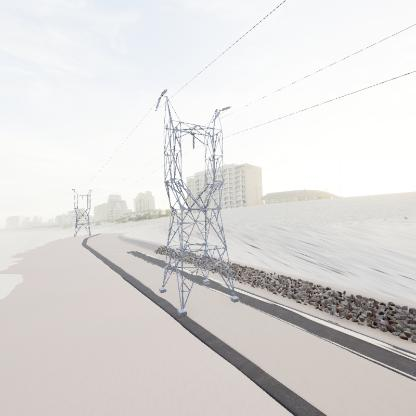tower: (151, 89, 244, 318), (69, 186, 94, 241)
